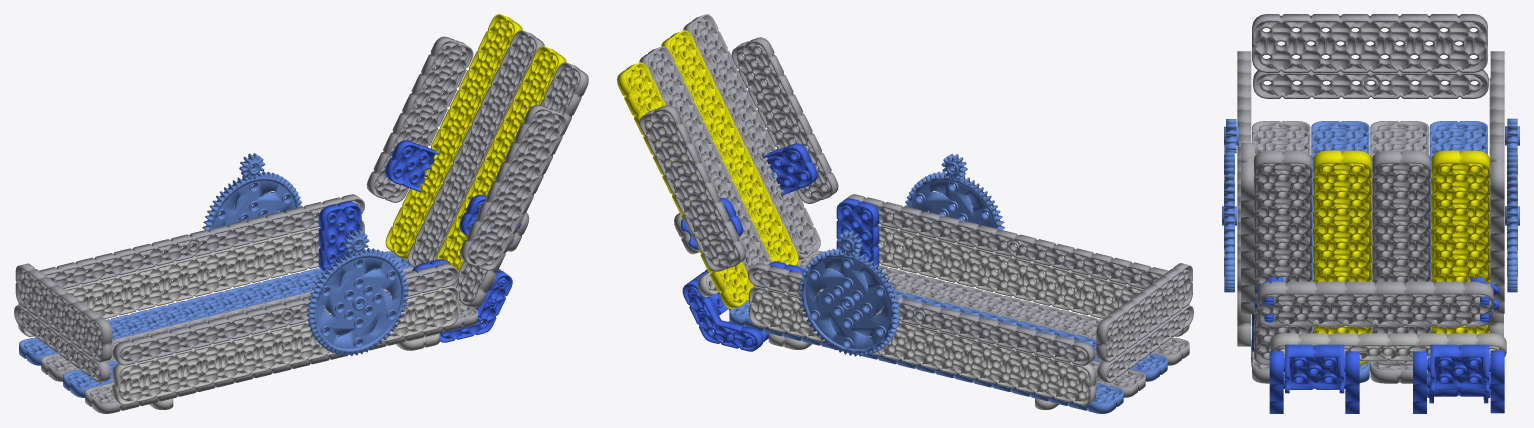
Rendered from Tray V2.glb.
The picture shows the model from 3 angles, left to right: view 1: azimuth 30°, elevation 25°; view 2: azimuth 150°, elevation 25°; view 3: azimuth 270°, elevation 25°; orthographic projection. The views are drawn at different scales.
Visible parts, largest first — view 1: 00031_228-2500-029.dat, 00026_228-2500-029.dat, 00032_228-2500-215.dat, 00007_228-2500-023.dat, 00027_228-2500-015.dat, 00002_228-2500-026.dat, 00001_228-2500-026.dat, 00028_228-2500-015.dat, 00006_228-2500-023.dat, 00017_228-2500-030.dat, 00003_228-2500-026.dat, 00029_228-2500-023.dat (+10 smaller); view 2: 00026_228-2500-029.dat, 00031_228-2500-029.dat, 00033_228-2500-215.dat, 00028_228-2500-015.dat, 00006_228-2500-023.dat, 00003_228-2500-026.dat, 00004_228-2500-026.dat, 00027_228-2500-015.dat, 00007_228-2500-023.dat, 00023_228-2500-030.dat, 00002_228-2500-026.dat, 00029_228-2500-023.dat (+10 smaller); view 3: 00029_228-2500-023.dat, 00005_228-2500-023.dat, 00004_228-2500-026.dat, 00002_228-2500-026.dat, 00003_228-2500-026.dat, 00001_228-2500-026.dat, 00030_228-2500-007-v2.dat, 00010_228-2500-007-v2.dat, 00012_228-2500-220-v2.dat, 00021_228-2500-030.dat, 00011_228-2500-220-v2.dat, 00006_228-2500-023.dat (+19 smaller).
Boxes of the visible parts, x1=… form: 00031_228-2500-029.dat: x1=112, y1=285, x2=458, y2=405; 00026_228-2500-029.dat: x1=18, y1=220, x2=364, y2=336; 00032_228-2500-215.dat: x1=306, y1=248, x2=408, y2=355; 00007_228-2500-023.dat: x1=460, y1=104, x2=566, y2=270; 00027_228-2500-015.dat: x1=39, y1=194, x2=364, y2=288; 00002_228-2500-026.dat: x1=407, y1=30, x2=544, y2=267; 00001_228-2500-026.dat: x1=385, y1=14, x2=522, y2=259; 00028_228-2500-015.dat: x1=112, y1=263, x2=458, y2=365; 00006_228-2500-023.dat: x1=366, y1=36, x2=473, y2=202; 00017_228-2500-030.dat: x1=19, y1=251, x2=412, y2=365; 00003_228-2500-026.dat: x1=435, y1=46, x2=566, y2=271; 00029_228-2500-023.dat: x1=15, y1=263, x2=112, y2=362; 00026_228-2500-029.dat: x1=748, y1=286, x2=1096, y2=405; 00031_228-2500-029.dat: x1=847, y1=221, x2=1189, y2=336; 00033_228-2500-215.dat: x1=798, y1=248, x2=900, y2=356; 00028_228-2500-015.dat: x1=845, y1=194, x2=1168, y2=288; 00006_228-2500-023.dat: x1=639, y1=105, x2=746, y2=271; 00003_228-2500-026.dat: x1=661, y1=30, x2=798, y2=265; 00004_228-2500-026.dat: x1=683, y1=14, x2=820, y2=260; 00027_228-2500-015.dat: x1=748, y1=263, x2=1095, y2=365; 00007_228-2500-023.dat: x1=731, y1=37, x2=838, y2=203; 00023_228-2500-030.dat: x1=796, y1=250, x2=1189, y2=365; 00002_228-2500-026.dat: x1=639, y1=46, x2=771, y2=286; 00029_228-2500-023.dat: x1=1096, y1=263, x2=1192, y2=362; 00029_228-2500-023.dat: x1=1252, y1=14, x2=1487, y2=72; 00005_228-2500-023.dat: x1=1257, y1=281, x2=1493, y2=326; 00004_228-2500-026.dat: x1=1254, y1=150, x2=1312, y2=365; 00002_228-2500-026.dat: x1=1372, y1=150, x2=1430, y2=365; 00003_228-2500-026.dat: x1=1313, y1=150, x2=1371, y2=365; 00001_228-2500-026.dat: x1=1431, y1=150, x2=1489, y2=334; 00030_228-2500-007-v2.dat: x1=1253, y1=70, x2=1488, y2=98; 00010_228-2500-007-v2.dat: x1=1270, y1=333, x2=1506, y2=361; 00012_228-2500-220-v2.dat: x1=1427, y1=344, x2=1490, y2=393; 00021_228-2500-030.dat: x1=1370, y1=121, x2=1428, y2=383; 00011_228-2500-220-v2.dat: x1=1283, y1=344, x2=1345, y2=393; 00006_228-2500-023.dat: x1=1490, y1=142, x2=1504, y2=313.
Bounding box in the file's own units: 8.26 × 3.9 × 3.22.
